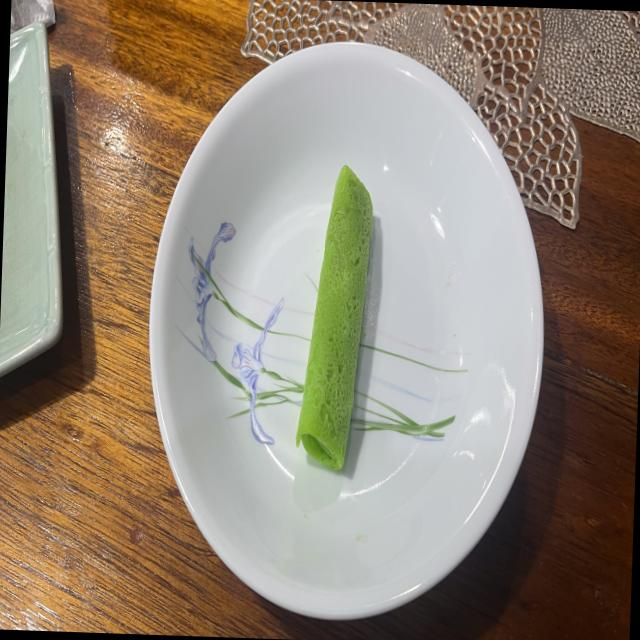Kuih-Ketayap: (296, 165, 373, 470)
